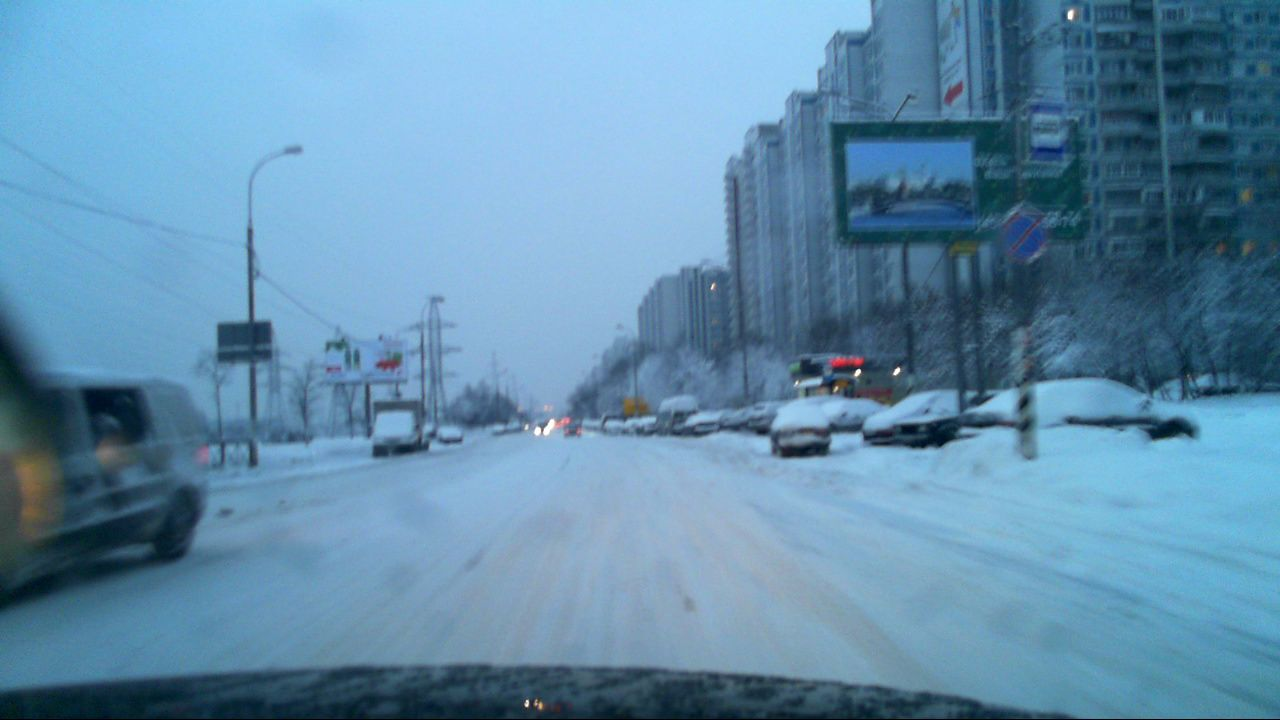No Parking: (996, 205, 1053, 262)
